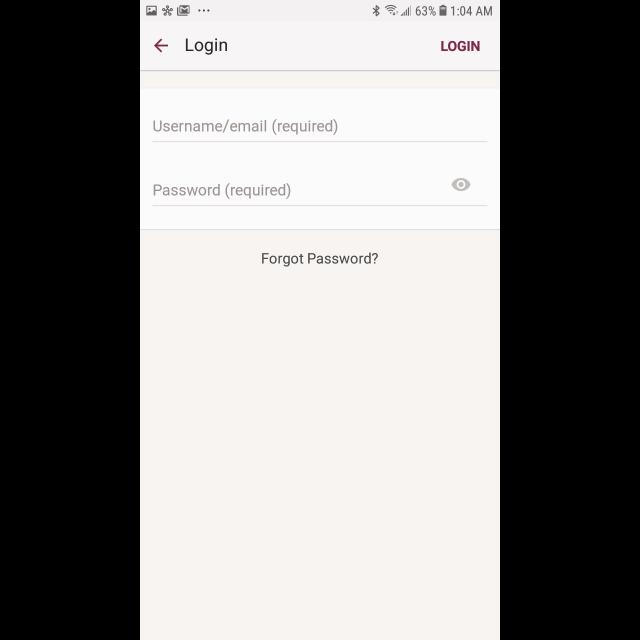icon: (451, 178, 471, 192), (155, 39, 169, 53)
input: (152, 178, 488, 206), (152, 119, 488, 143)
text: (154, 120, 338, 136), (154, 182, 290, 200), (262, 252, 378, 268), (185, 38, 227, 56), (440, 40, 480, 51)
uppertaskbar: (140, 1, 500, 22)
